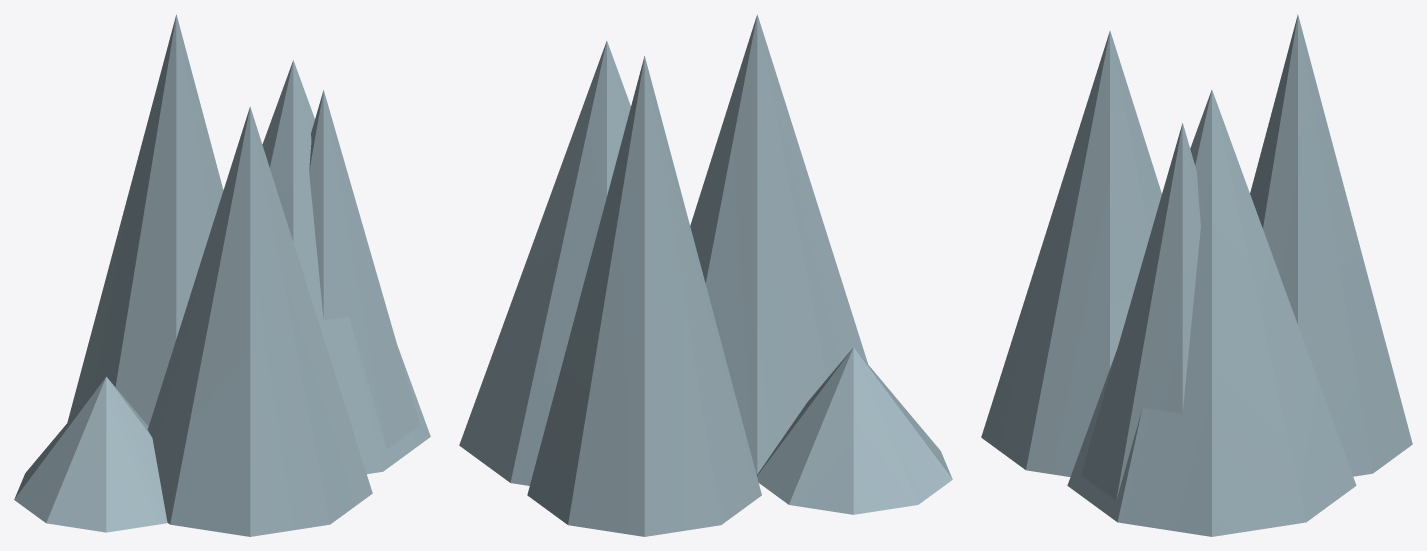
Rendered from ice_spire-06.glb.
3 renders of one model, left to right at view 1: azimuth 30°, elevation 25°; view 2: azimuth 150°, elevation 25°; view 3: azimuth 270°, elevation 25°, orthographic. The views are drawn at different scales.
Visible parts, largest first — view 1: world; view 2: world; view 3: world.
Part boxes in pixels (x1,y1,x2,y2): world: (14, 14, 430, 536); world: (459, 14, 952, 536); world: (981, 14, 1412, 536).
Bounding box in the file's own units: 1.28 × 1.21 × 1.12.
